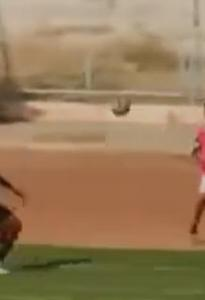ball: (105, 94, 143, 122)
